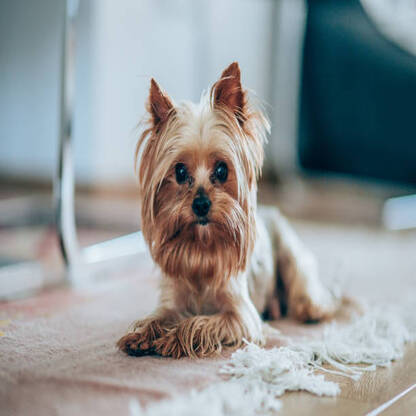yorkshire: (118, 61, 340, 363)
